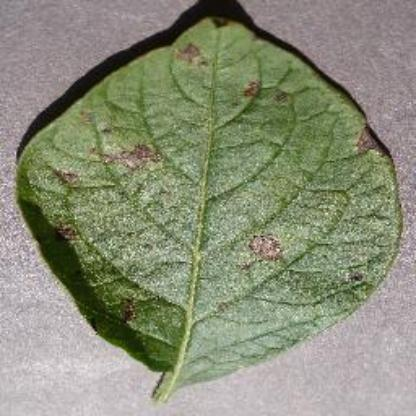Early-Blight: (15, 6, 405, 406)
